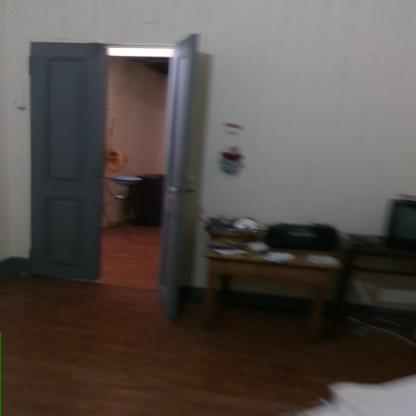open: (23, 31, 220, 336)
